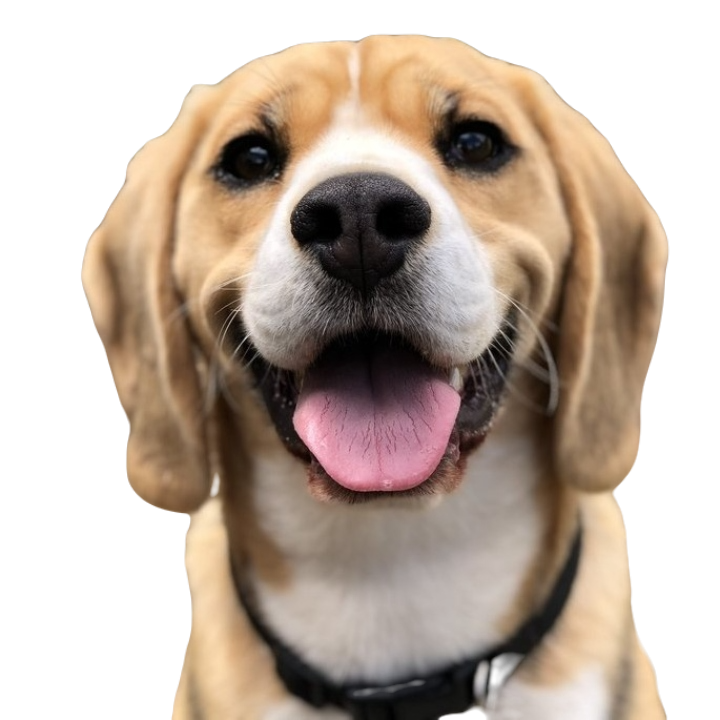Dog: (76, 29, 673, 718)
